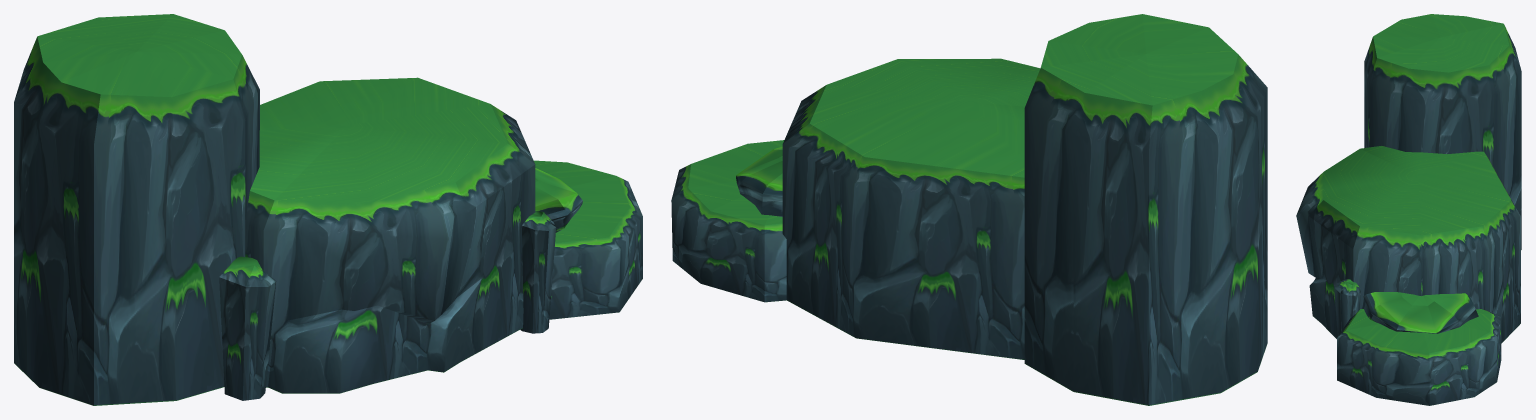
File: rc_01_budA_09.FBX
3 views of the same model, side by side, from view 1: azimuth 30°, elevation 25°; view 2: azimuth 150°, elevation 25°; view 3: azimuth 270°, elevation 25° (orthographic). The views are drawn at different scales.
Parts seen in each view (by area): view 1: Box005, Box004, Box006, Cylinder021, Cylinder020, Line011; view 2: Box005, Box004, Box006, Line011; view 3: Box004, Box005, Box006, Line011, Cylinder020.
Part boxes in pixels (x1=…): Box005: x1=14, y1=14, x2=259, y2=405; Box004: x1=245, y1=77, x2=535, y2=393; Box006: x1=534, y1=160, x2=642, y2=319; Cylinder021: x1=219, y1=256, x2=276, y2=400; Cylinder020: x1=520, y1=211, x2=556, y2=333; Line011: x1=535, y1=168, x2=582, y2=232; Box005: x1=1024, y1=14, x2=1267, y2=405; Box004: x1=782, y1=58, x2=1040, y2=359; Box006: x1=671, y1=140, x2=786, y2=302; Line011: x1=736, y1=146, x2=782, y2=216; Box004: x1=1296, y1=146, x2=1520, y2=343; Box005: x1=1364, y1=14, x2=1521, y2=249; Box006: x1=1337, y1=309, x2=1501, y2=405; Line011: x1=1363, y1=292, x2=1478, y2=333; Cylinder020: x1=1334, y1=279, x2=1360, y2=336.
Bounding box in the file's own units: 24112 × 11717 × 12027.
